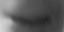LeftEyeFatigue: (4, 7, 57, 29)
